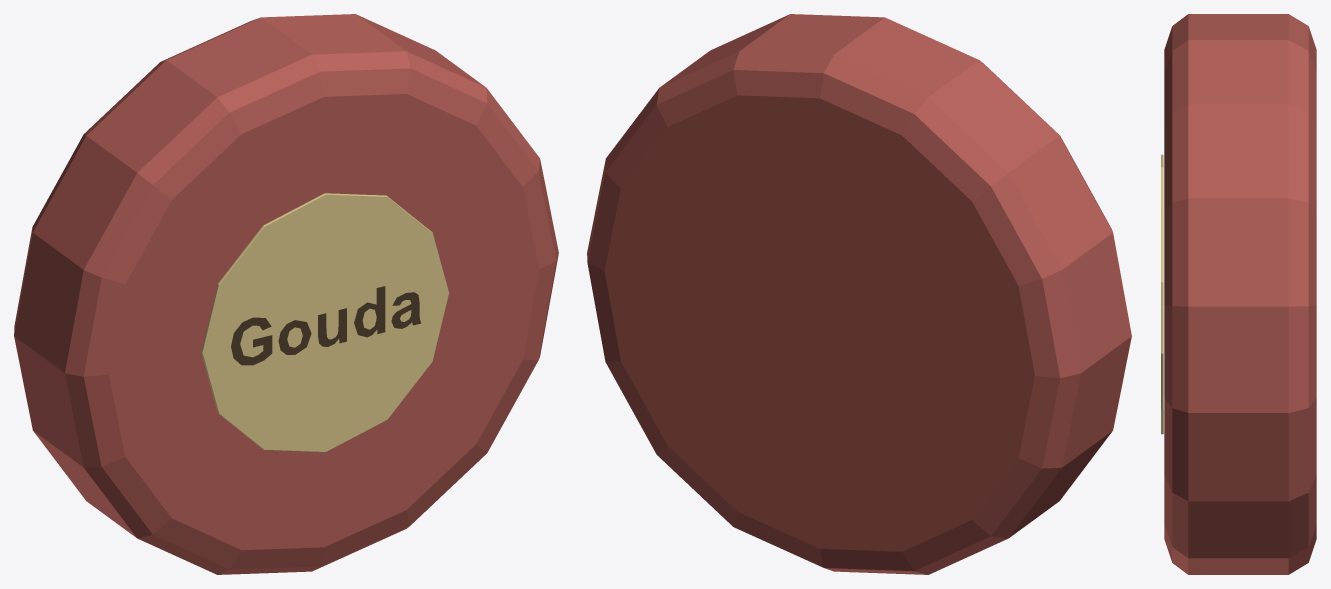
Rendered from gouda.glb.
3 renders of one model, left to right at view 1: azimuth 30°, elevation 25°; view 2: azimuth 150°, elevation 25°; view 3: azimuth 270°, elevation 25°, orthographic.
Visible parts, largest first — view 1: gouda; view 2: gouda; view 3: gouda.
Boxes of the visible parts, left/top/right/bottom form: gouda: left=14, top=14, right=558, bottom=574; gouda: left=587, top=14, right=1131, bottom=574; gouda: left=1161, top=14, right=1316, bottom=574.
Size of the model in its own units: 0.14 by 0.14 by 0.039.
